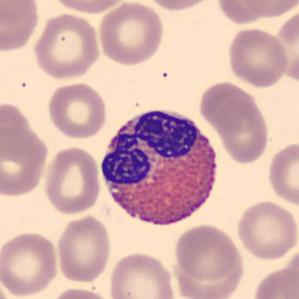Eosinophil: (95, 100, 226, 234)
RBC: (31, 11, 102, 81), (96, 1, 166, 67), (41, 144, 103, 216), (172, 222, 243, 283), (0, 229, 61, 298), (55, 214, 113, 284), (225, 26, 290, 88), (234, 199, 298, 261), (216, 94, 271, 165), (0, 121, 50, 198), (45, 81, 109, 140), (107, 250, 177, 299), (197, 80, 255, 131), (0, 100, 34, 168), (0, 0, 41, 54), (266, 139, 298, 208), (250, 265, 298, 299), (215, 0, 272, 26), (45, 0, 129, 15), (240, 0, 298, 19), (142, 0, 216, 12), (47, 286, 114, 299)
